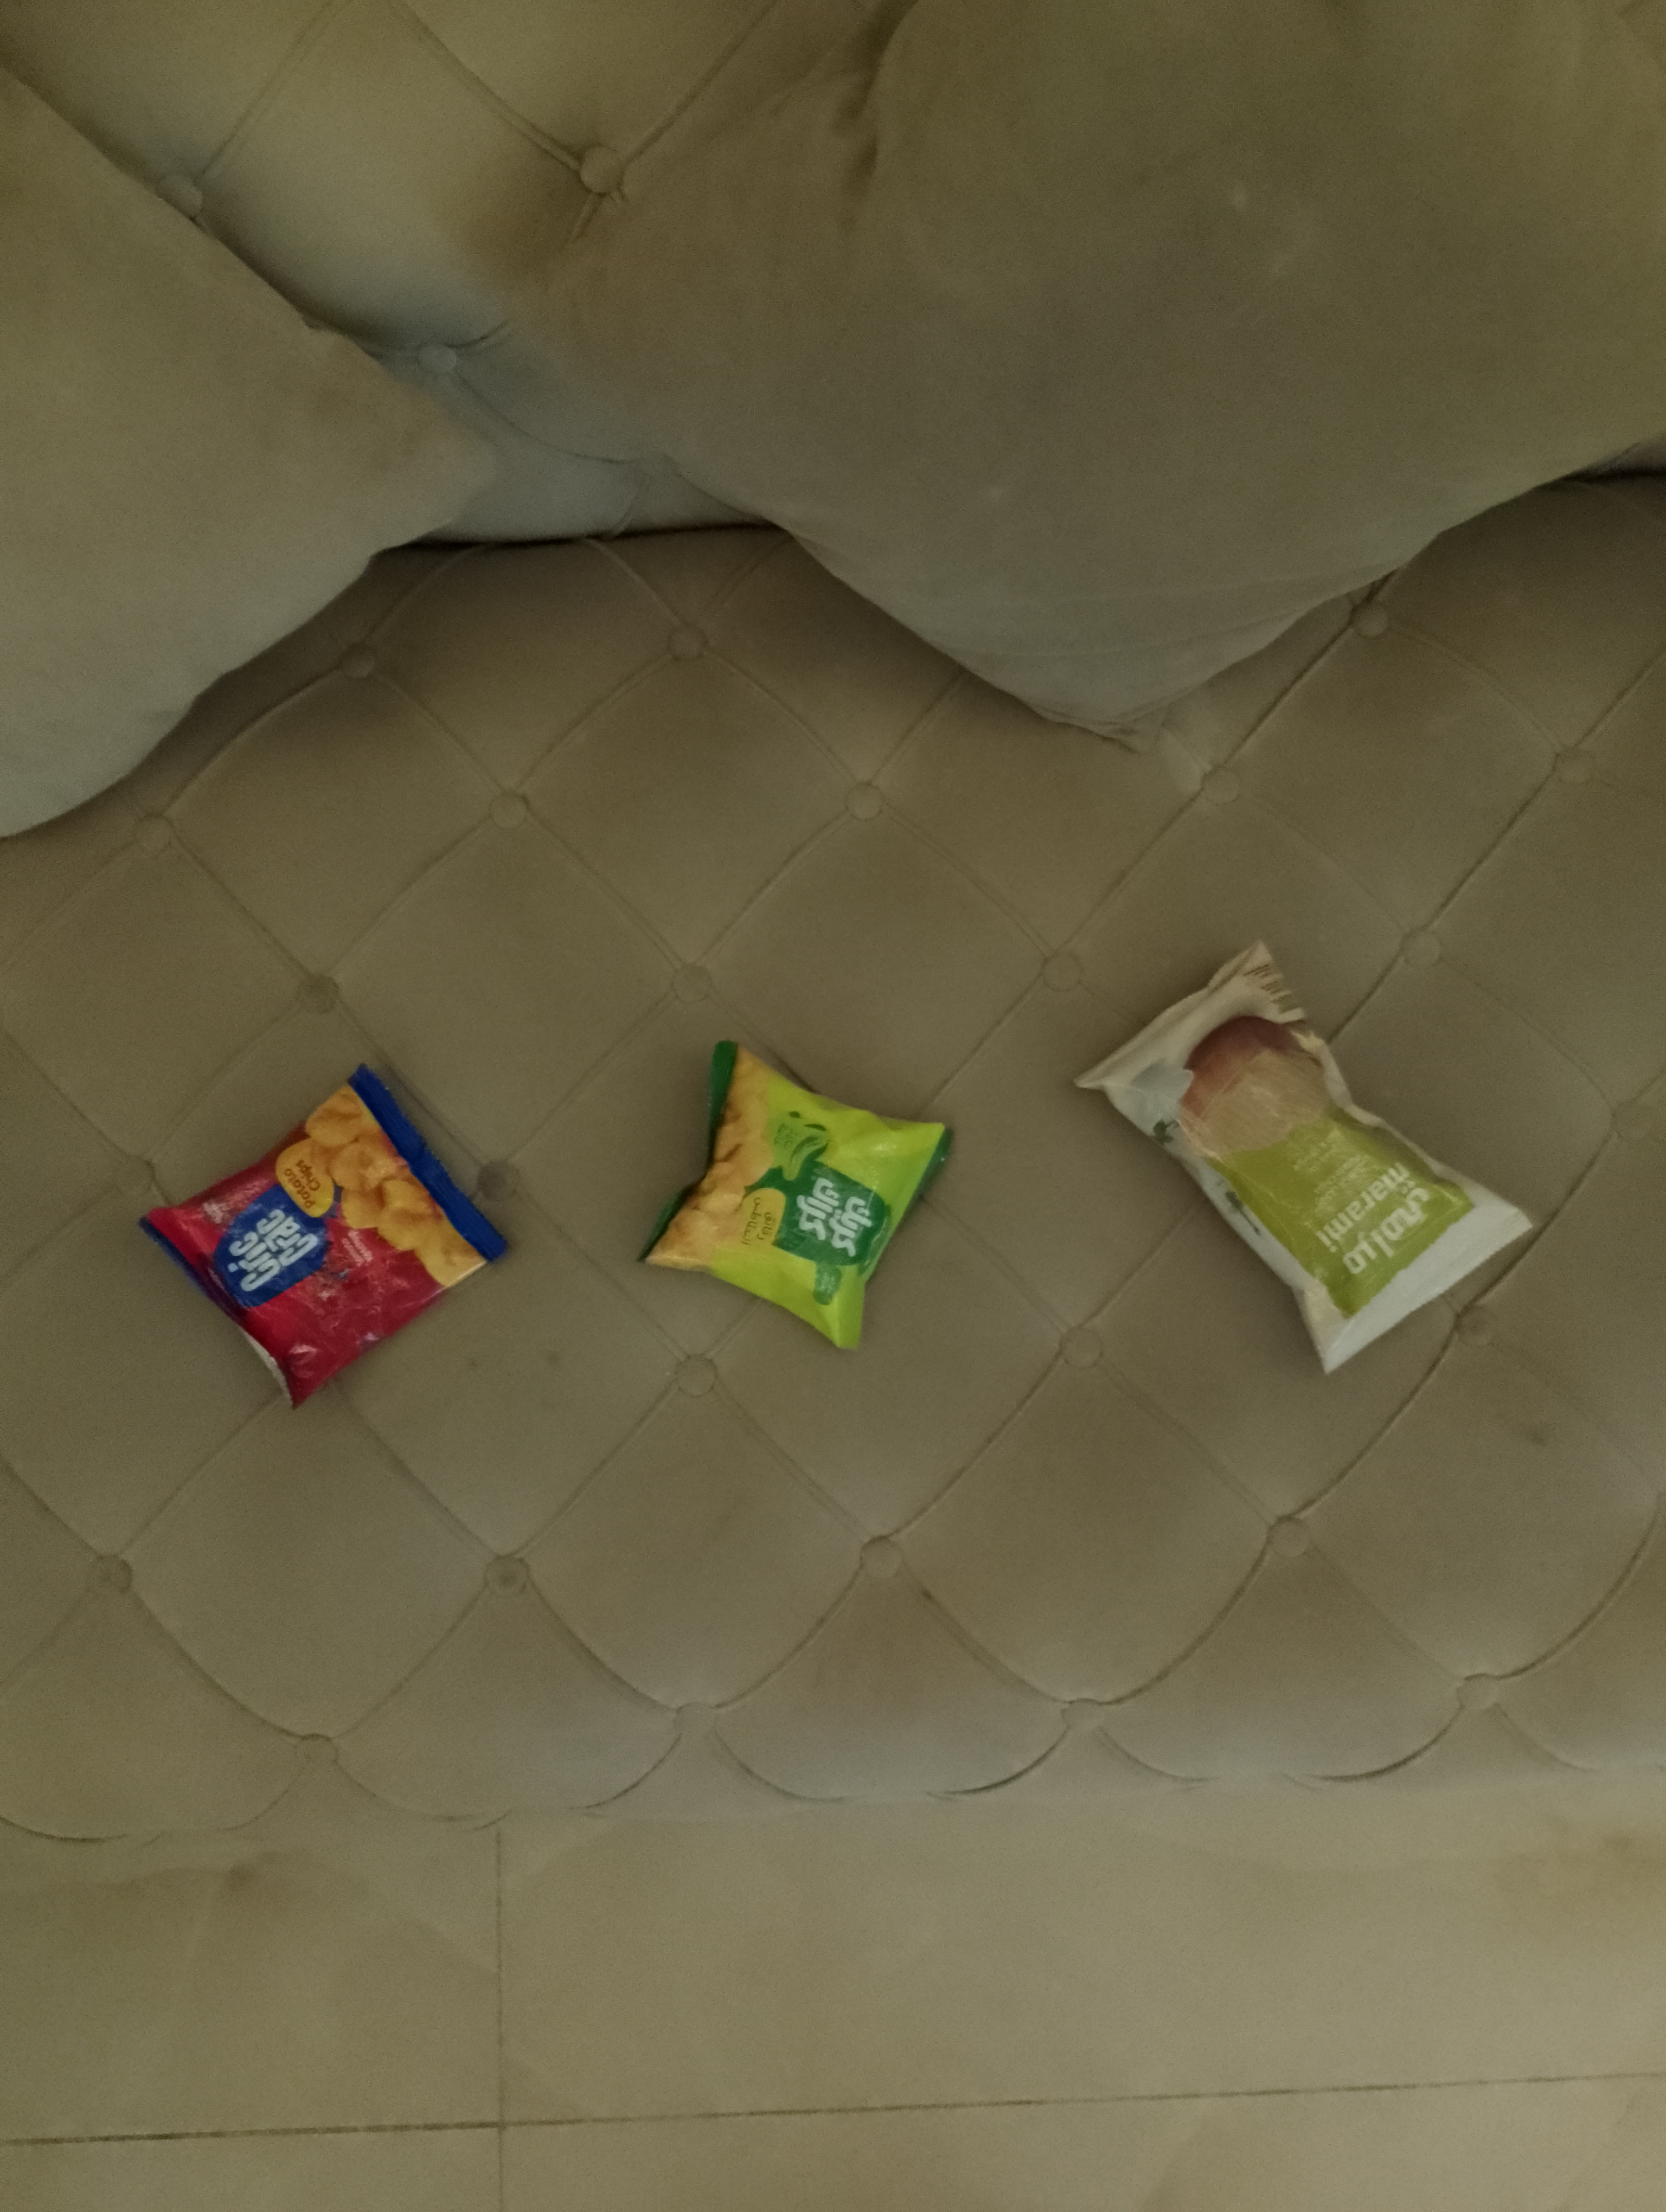cric_crac_special_flavour: (633, 1039, 955, 1352)
cric_crac_tomato_ketchup: (135, 1061, 510, 1412)
marami_salt_&_vinegar: (1071, 937, 1536, 1377)
